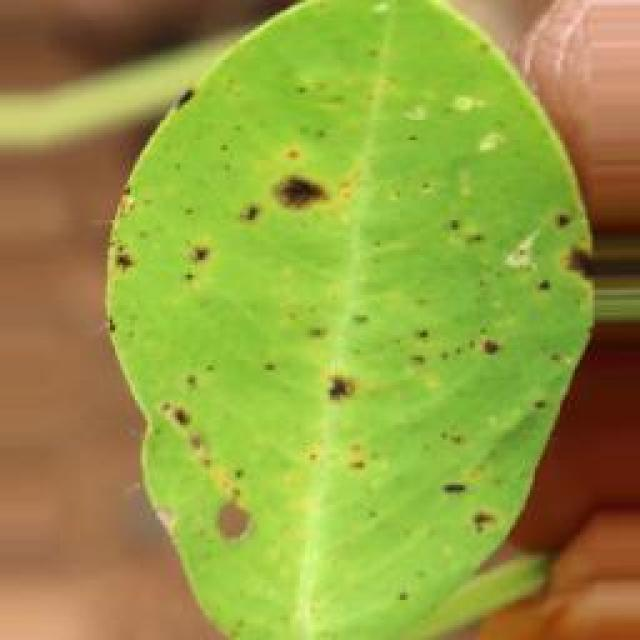Yellowish: (107, 63, 565, 572)
